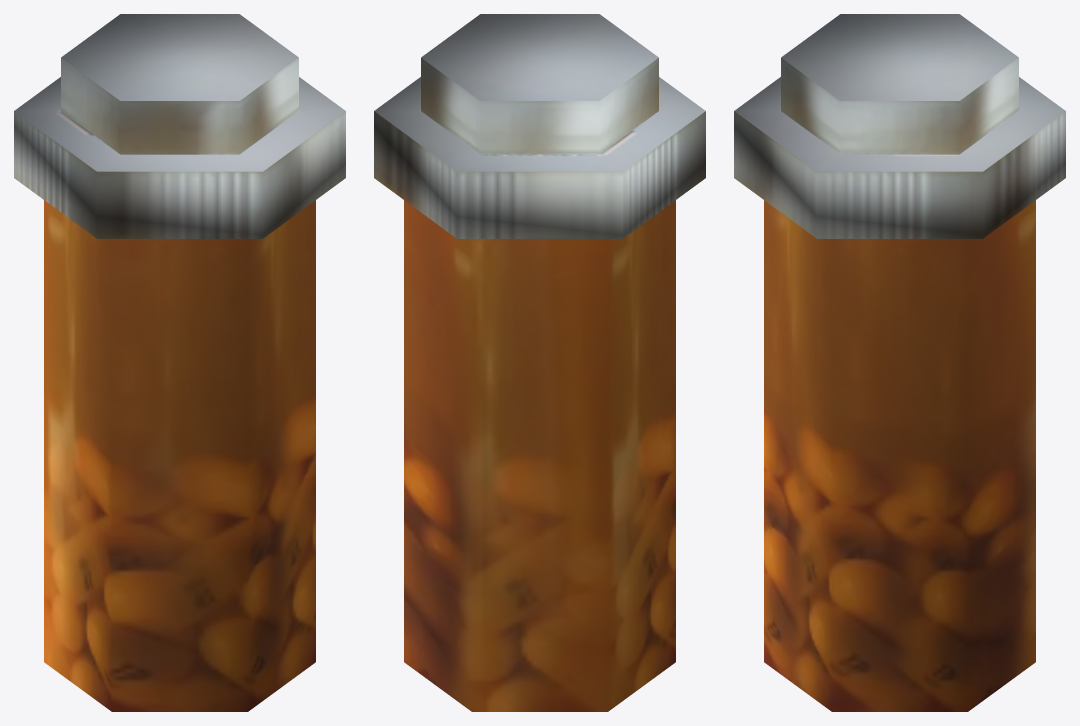
File: Pills.glb
3 renders of one model, left to right at view 1: azimuth 30°, elevation 25°; view 2: azimuth 150°, elevation 25°; view 3: azimuth 270°, elevation 25°, orthographic.
Visible parts, largest first — view 1: Antibiotics.001; view 2: Antibiotics.001; view 3: Antibiotics.001.
Boxes of the visible parts, x1,y1,x2,y2 form: Antibiotics.001: (14,14,345,711); Antibiotics.001: (374,14,705,711); Antibiotics.001: (734,14,1065,711).
Bounding box in the file's own units: 0.076 × 0.1765 × 0.0878.
1 material, 1 textured.
